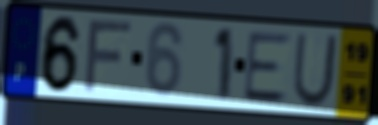1: (212, 26, 237, 103)
6: (37, 13, 85, 95), (142, 20, 189, 103)
E: (241, 31, 295, 105)
F: (81, 19, 135, 95)
U: (290, 31, 341, 110)
